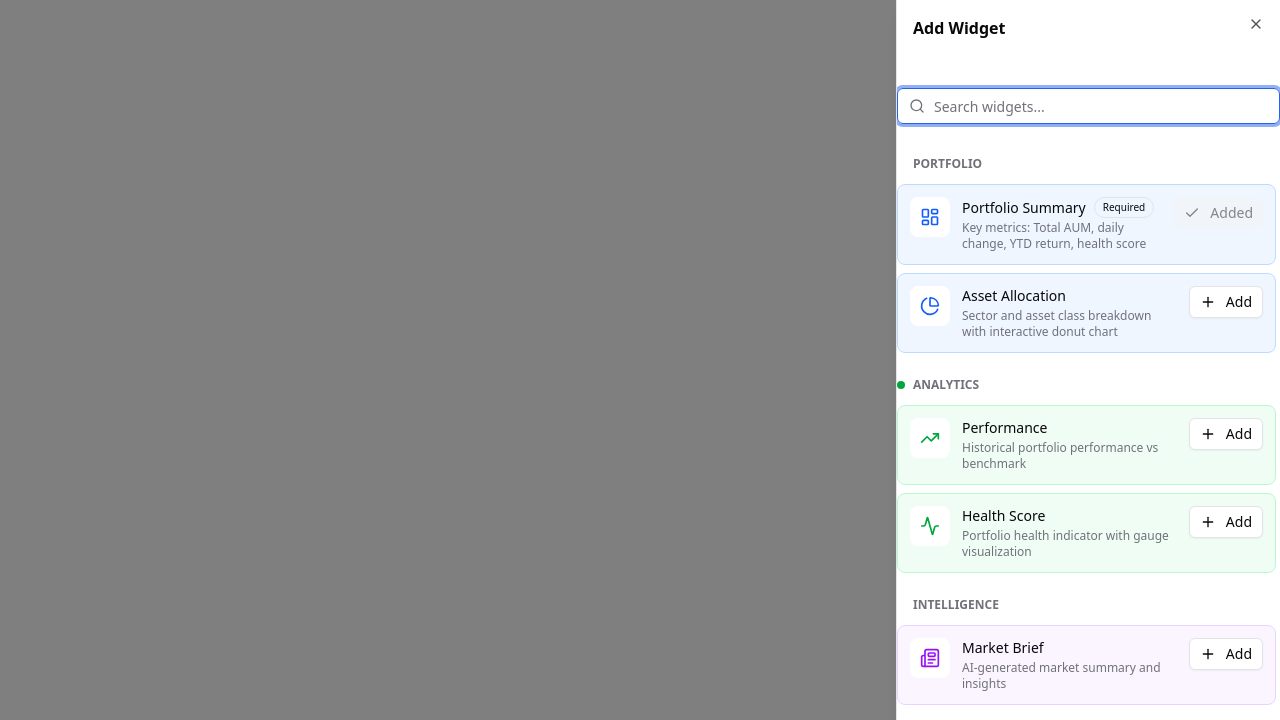
it: WidgetPicker › Search Functionality › should be case-insensitive when searching
The width and height of the screenshot is (1280, 720).
Type "ALERTS" into the field with placeholder "Search widgets..." at point(1088, 106), box [897,88,1279,124]
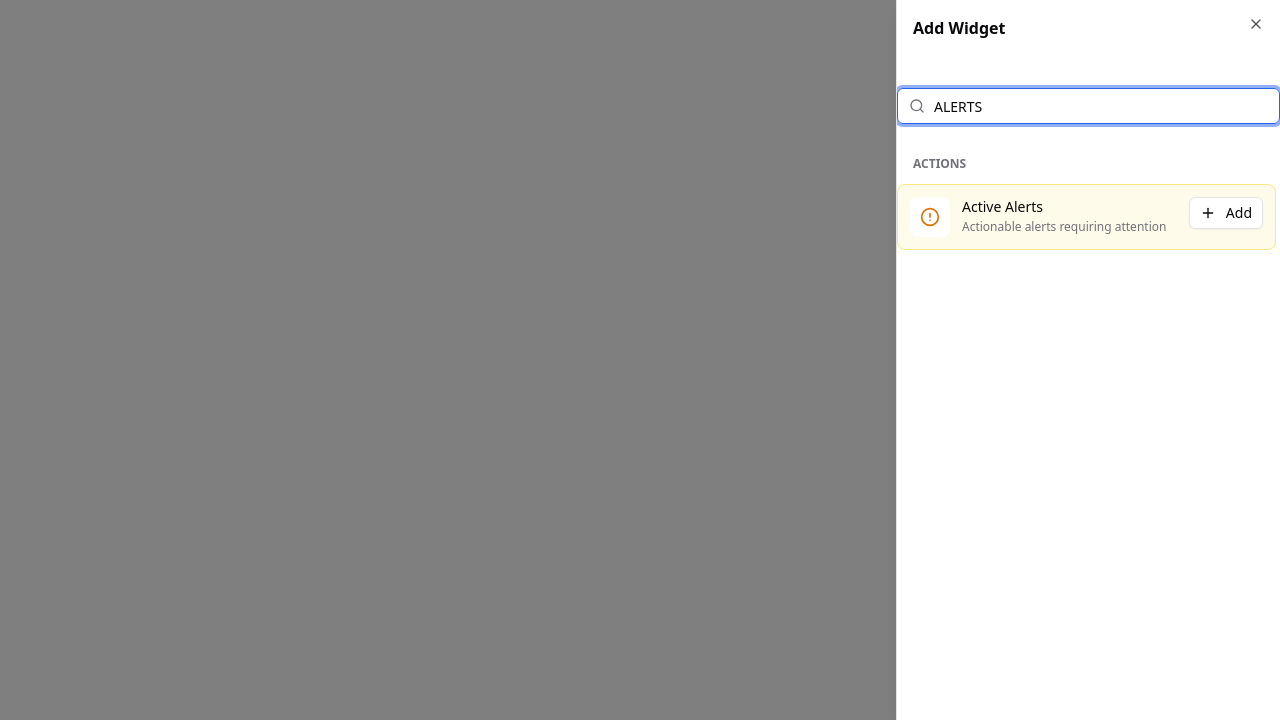
Now the text "Active Alerts" is shown, box [962,197,1043,217]
